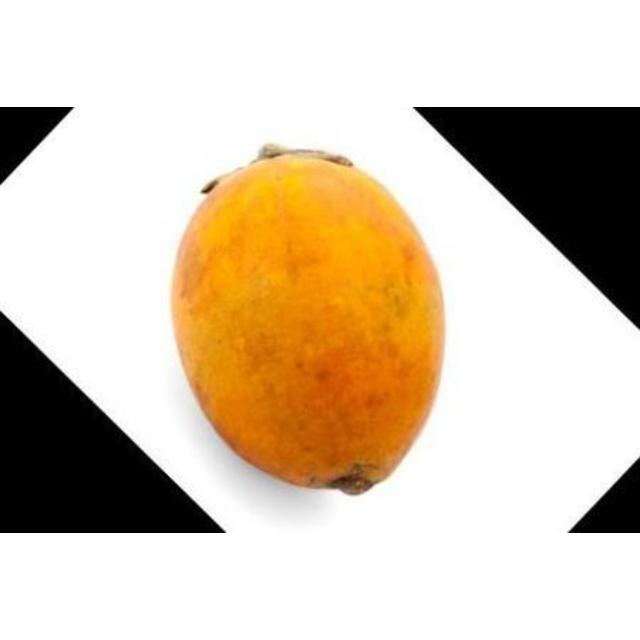good: (166, 153, 448, 498)
